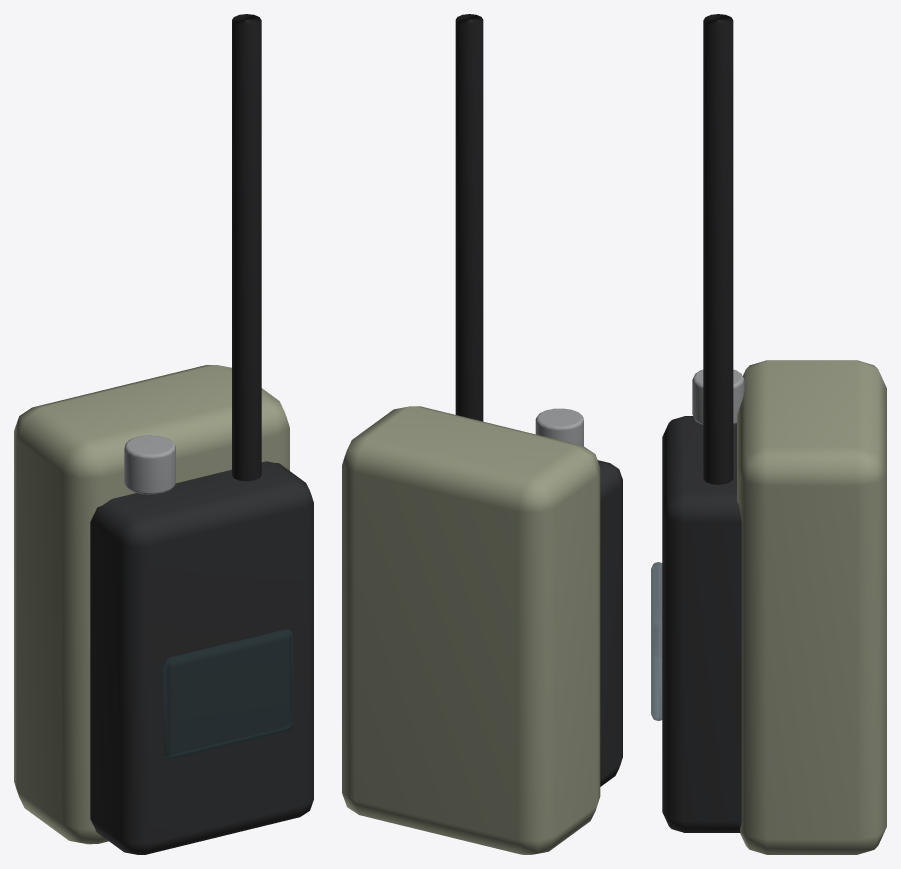
Rendered from chest_radio_CT.glb.
3 views of the same model, side by side, from view 1: azimuth 30°, elevation 25°; view 2: azimuth 150°, elevation 25°; view 3: azimuth 270°, elevation 25° (orthographic). The views are drawn at different scales.
Visible parts, largest first — view 1: radio@Chest; view 2: radio@Chest; view 3: radio@Chest.
Part boxes in pixels (box(x1,y1,x2,y2)): radio@Chest: box(14, 14, 313, 854); radio@Chest: box(342, 14, 622, 854); radio@Chest: box(651, 14, 886, 854).
Size of the model in its own units: 0.07 by 0.24 by 0.063.
